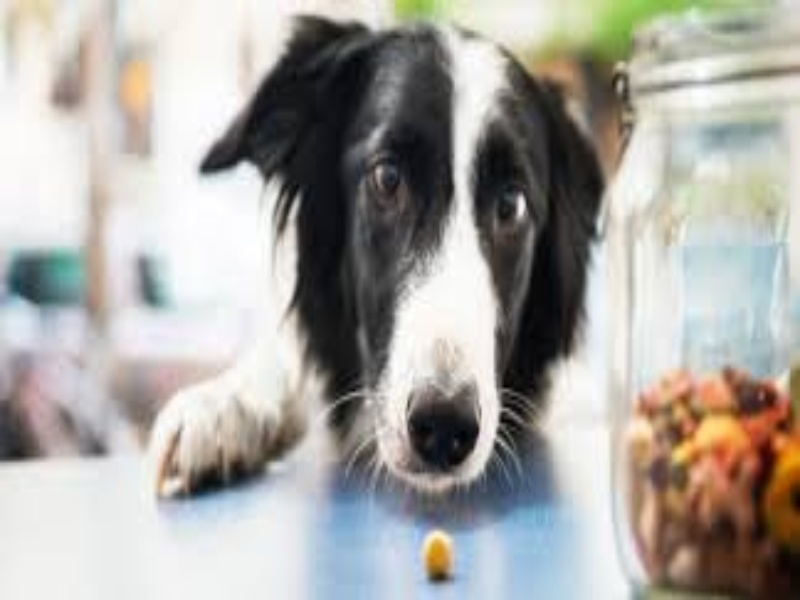dog: (145, 15, 633, 507)
